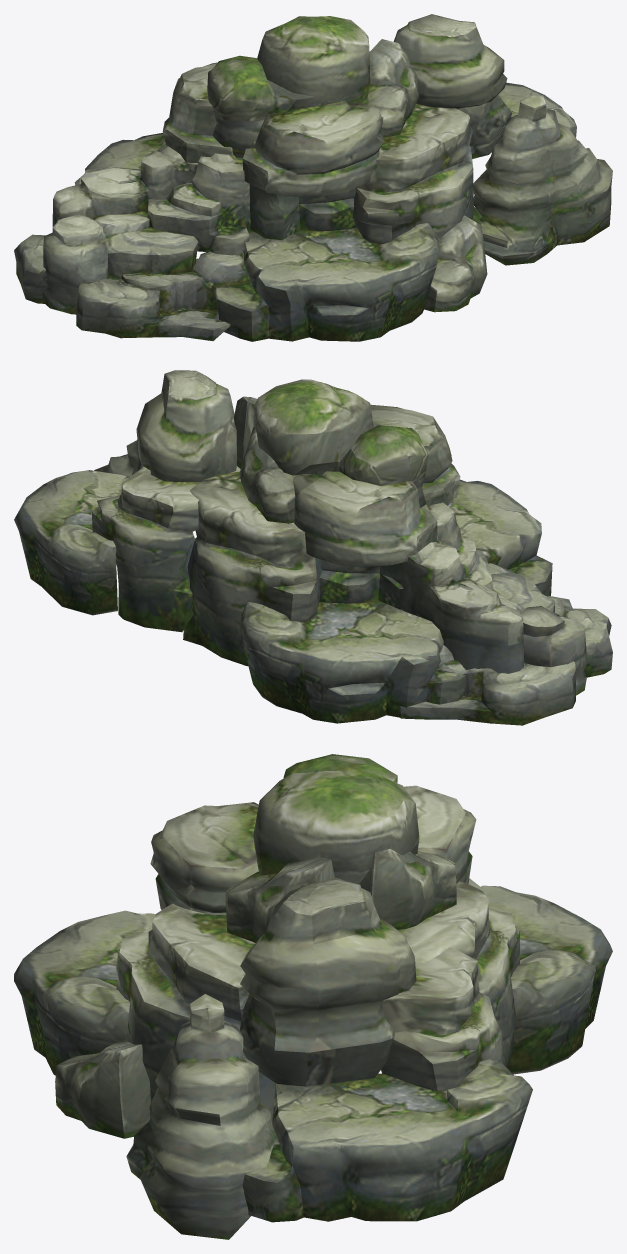
File: 1005_Item_shitou_1.FBX
3 views of the same model, one above another, from view 1: azimuth 30°, elevation 25°; view 2: azimuth 150°, elevation 25°; view 3: azimuth 270°, elevation 25° (orthographic). The views are drawn at different scales.
Parts seen in each view (by area): view 1: 1005_Item_shitou_1; view 2: 1005_Item_shitou_1; view 3: 1005_Item_shitou_1.
Boxes of the visible parts, x1,y1,x2,y2 form: 1005_Item_shitou_1: (14,14,612,341); 1005_Item_shitou_1: (14,370,612,725); 1005_Item_shitou_1: (14,754,612,1239).
Bounding box in the file's own units: 693 × 281 × 499.
